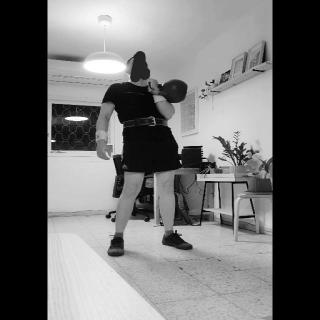kettlebell: (145, 77, 195, 107)
